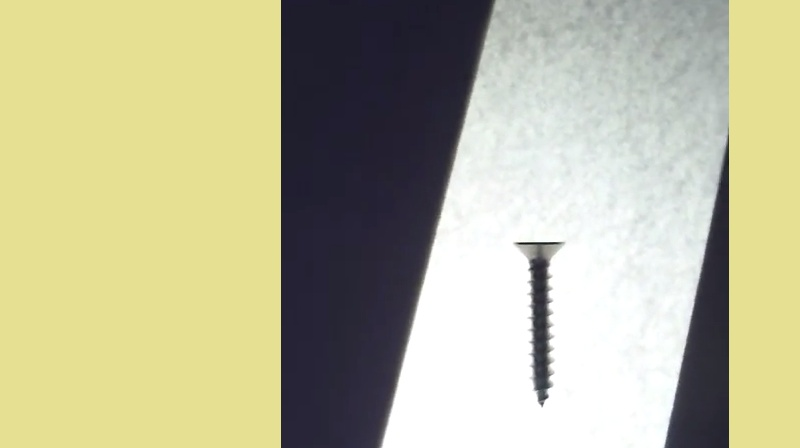S001: (510, 233, 567, 407)
